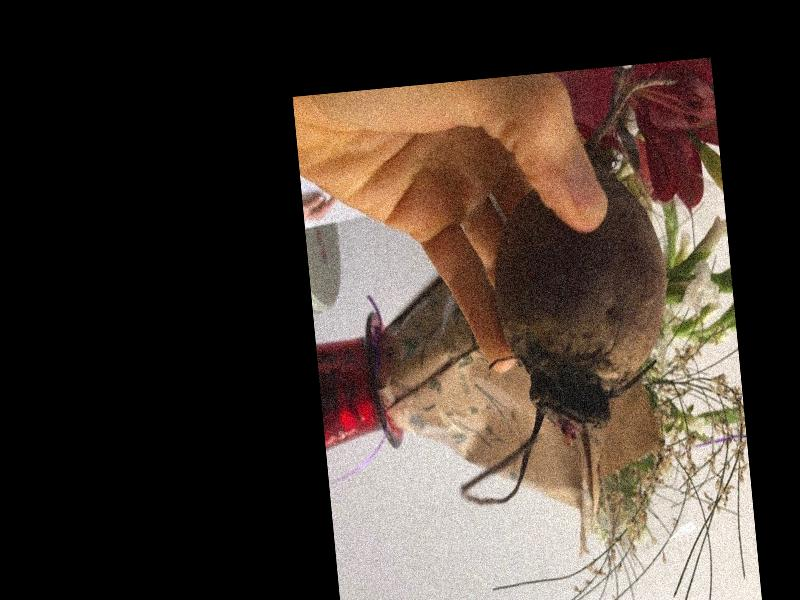Beet: (424, 78, 712, 508)
